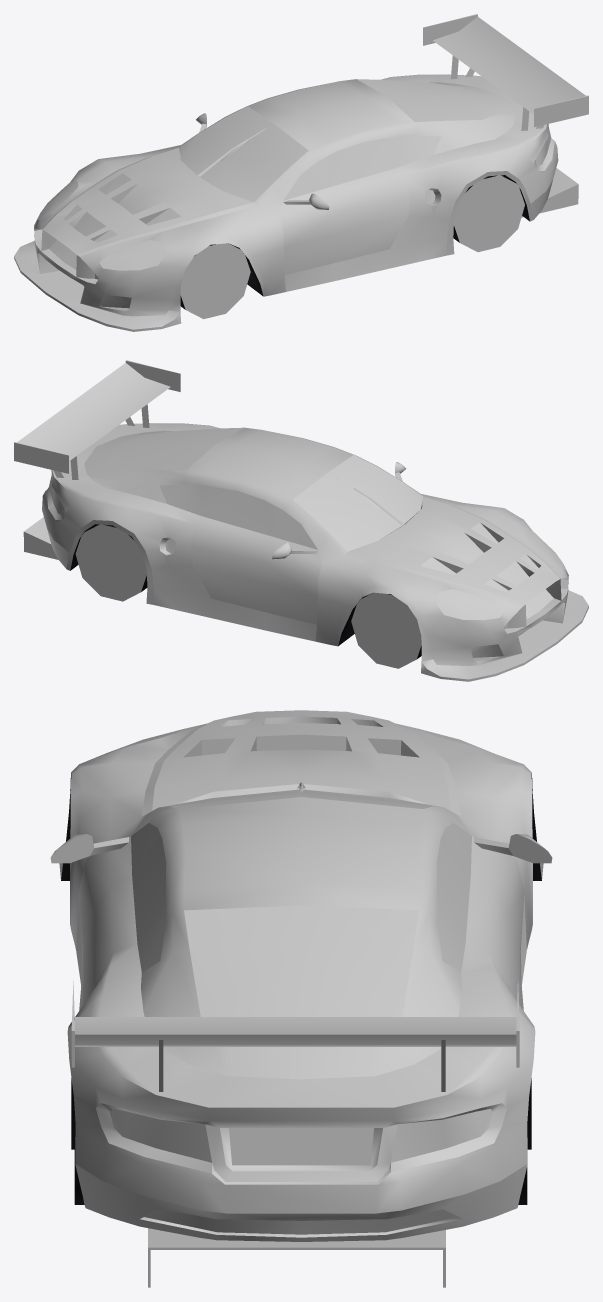
File: RaceC.FBX
The picture shows the model from 3 angles, top to bottom: view 1: azimuth 30°, elevation 25°; view 2: azimuth 150°, elevation 25°; view 3: azimuth 270°, elevation 25°; orthographic projection. The views are drawn at different scales.
Parts seen in each view (by area): view 1: RaceC_red_body, RaceC_wheel01, RaceC_wheel00; view 2: RaceC_red_body, RaceC_wheel03, RaceC_wheel02; view 3: RaceC_red_body.
Boxes of the visible parts, left/top/right/bottom form: RaceC_red_body: left=14, top=14, right=588, bottom=331; RaceC_wheel01: left=453, top=175, right=524, bottom=252; RaceC_wheel00: left=180, top=243, right=250, bottom=319; RaceC_red_body: left=14, top=360, right=588, bottom=681; RaceC_wheel03: left=75, top=524, right=147, bottom=601; RaceC_wheel02: left=351, top=592, right=421, bottom=668; RaceC_red_body: left=50, top=710, right=552, bottom=1287.
Bounding box in the file's own units: 5.65 × 1.42 × 2.48.
